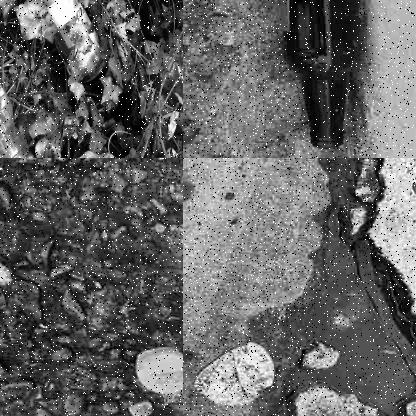glass: (271, 0, 364, 153)
metal: (35, 0, 110, 82)
plastic: (200, 339, 277, 409), (0, 74, 44, 157), (130, 346, 182, 396), (161, 47, 182, 157)
